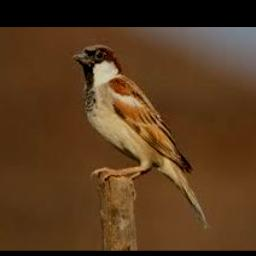Sparrow: (72, 45, 210, 231)
